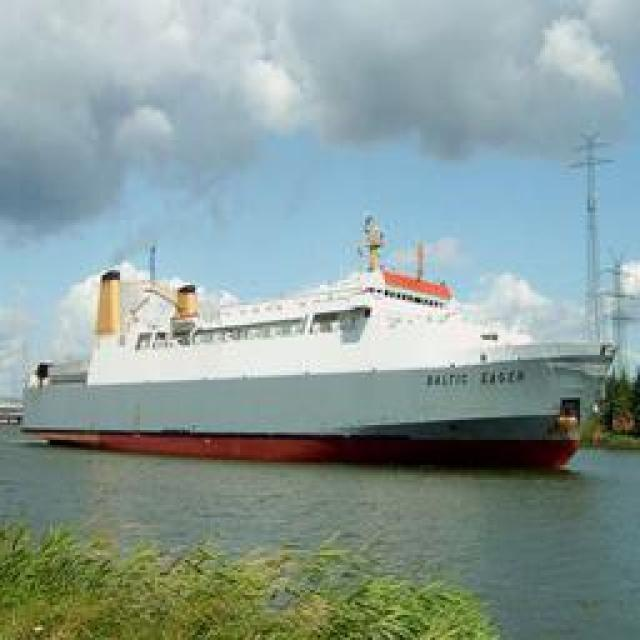ship2: (23, 216, 617, 472)
